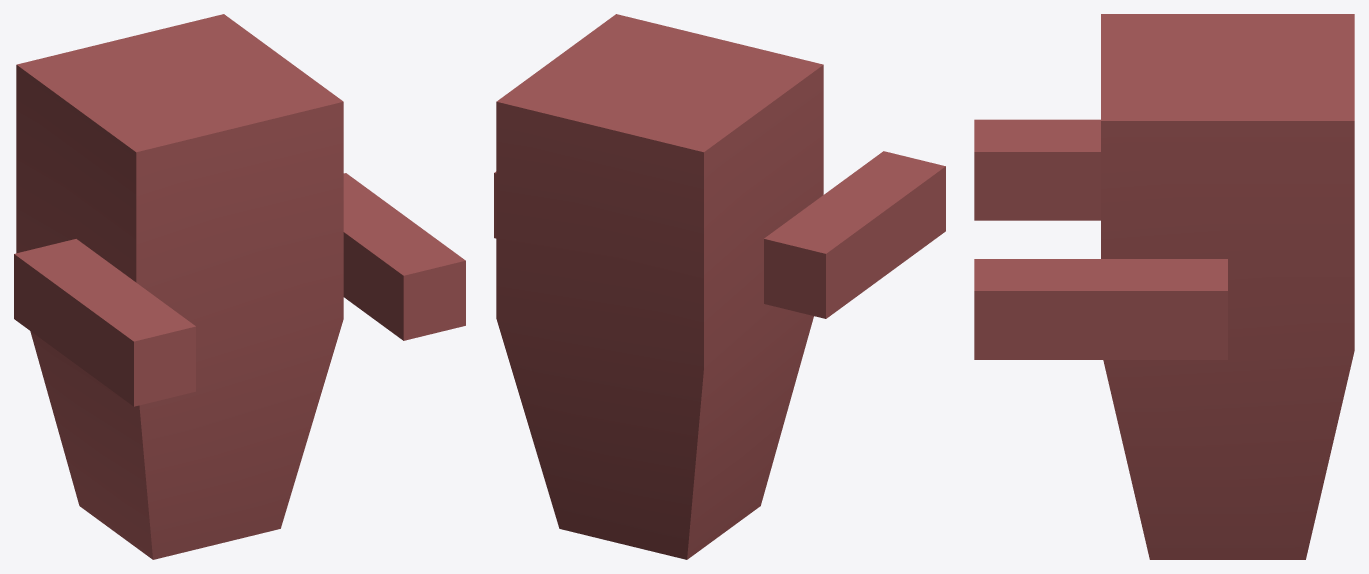
Rendered from F_Enemy.fbx.
The picture shows the model from 3 angles, left to right: view 1: azimuth 30°, elevation 25°; view 2: azimuth 150°, elevation 25°; view 3: azimuth 270°, elevation 25°; orthographic projection. The views are drawn at different scales.
Parts seen in each view (by area): view 1: pCube4; view 2: pCube4; view 3: pCube4.
Boxes of the visible parts, x1,y1,x2,y2 form: pCube4: [14, 14, 465, 559]; pCube4: [494, 14, 945, 559]; pCube4: [974, 14, 1354, 559].
Bounding box in the file's own units: 1.6 × 2 × 1.5.
